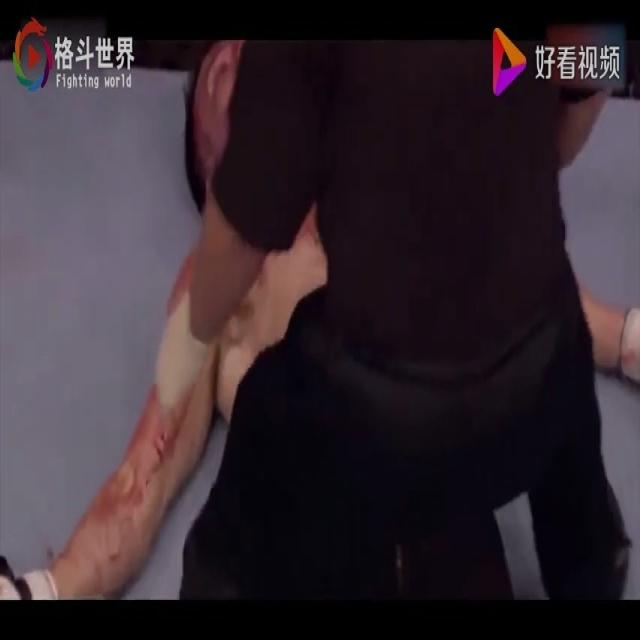fight: (4, 39, 633, 597)
